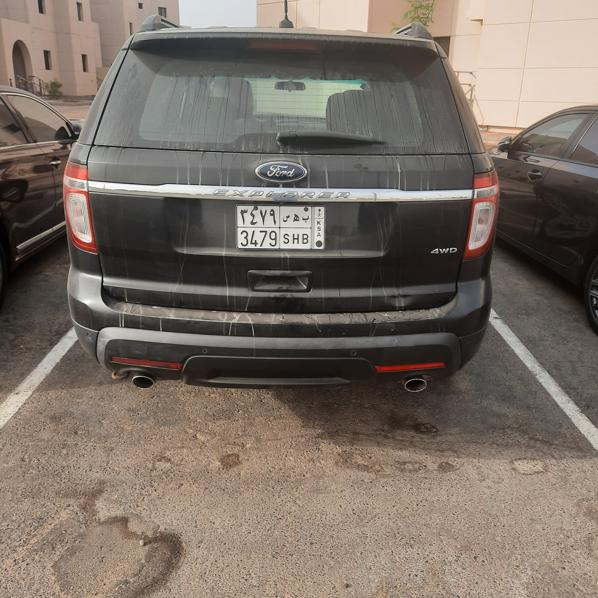numberplate: (237, 205, 324, 249)
